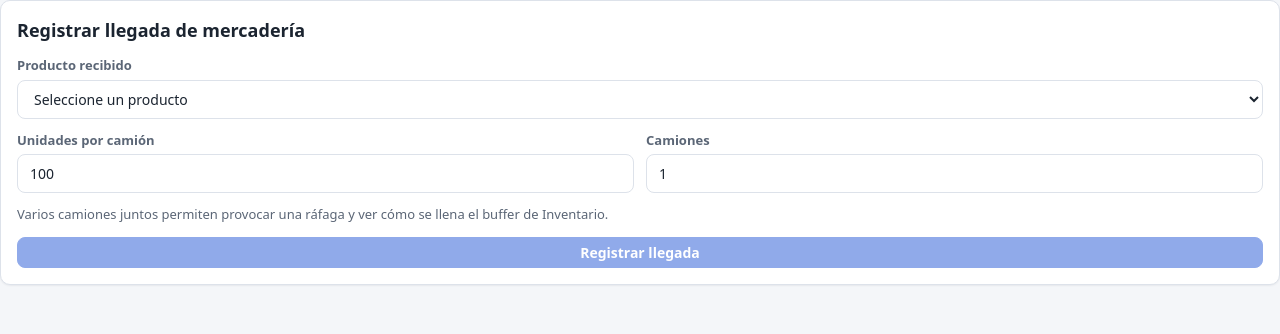
it: ReceptionForm › rejects out-of-range numbers before sending anything
Select "Camiseta · Estándar" in the dropdown labelled "Producto recibido" at (640, 99), box [17, 80, 1263, 118]
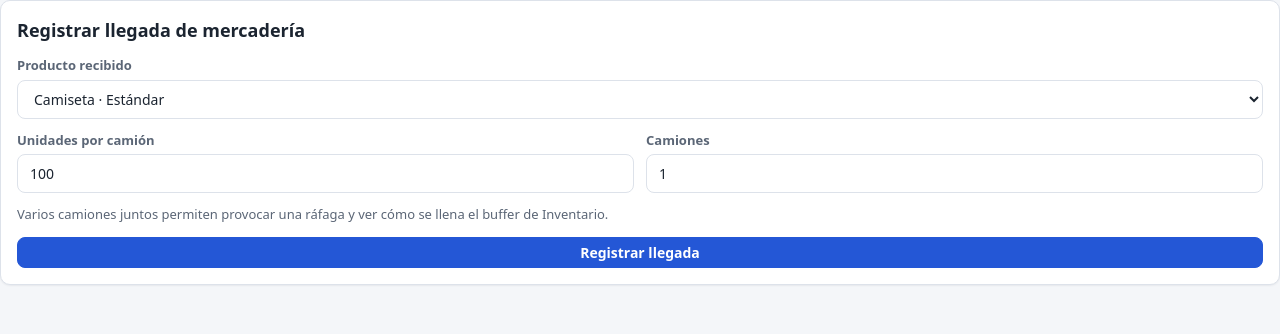
Replace the text in the number field labelled "Unidades por camión" with "0" at (326, 174), box [17, 154, 634, 193]
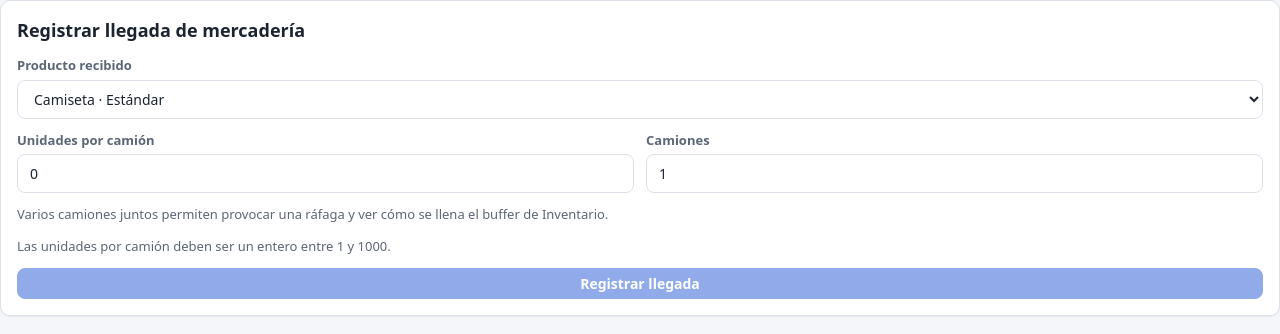
Now the button "Registrar llegada" is disabled, box [17, 268, 1263, 299]
Now the text "Las unidades por camión deben ser un entero entre 1 y 1000." is shown, box [17, 236, 391, 254]
